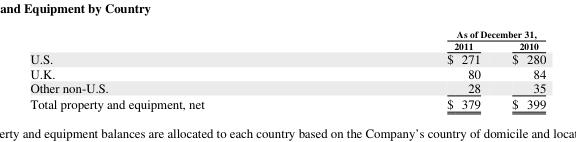table: (29, 28, 545, 110)
table column: (29, 28, 325, 110), (325, 28, 495, 110), (495, 28, 545, 110)
table column header: (29, 28, 545, 51)
table row: (29, 51, 545, 66), (29, 80, 545, 95), (29, 95, 545, 110), (29, 66, 545, 80), (29, 39, 545, 51), (29, 28, 545, 39)
table spanning cell: (325, 28, 545, 39)
